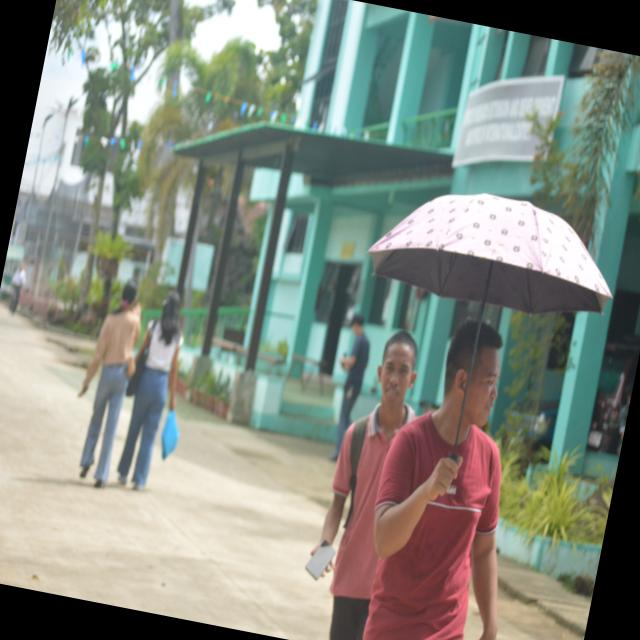person: (364, 321, 502, 639), (330, 331, 417, 639), (118, 290, 183, 490), (79, 280, 141, 488), (330, 314, 369, 460), (10, 261, 26, 315)
